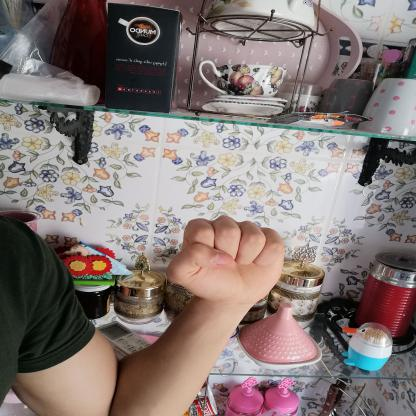SAD: (150, 208, 301, 312)
